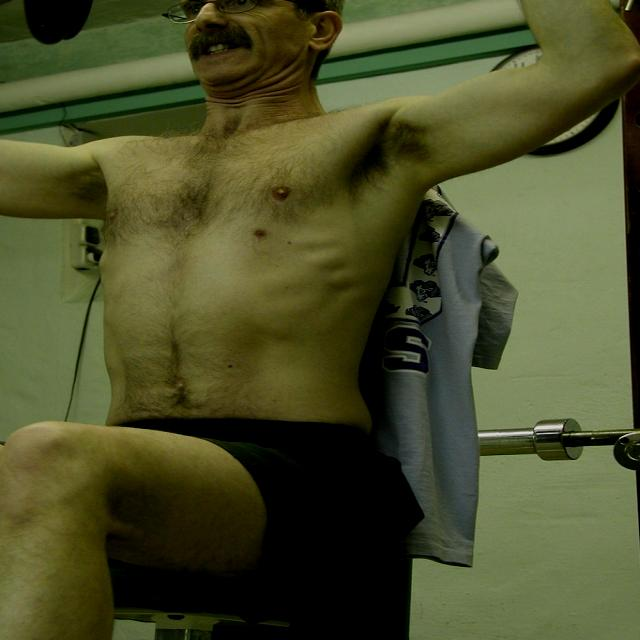piel: (0, 0, 640, 437), (0, 419, 270, 640)
